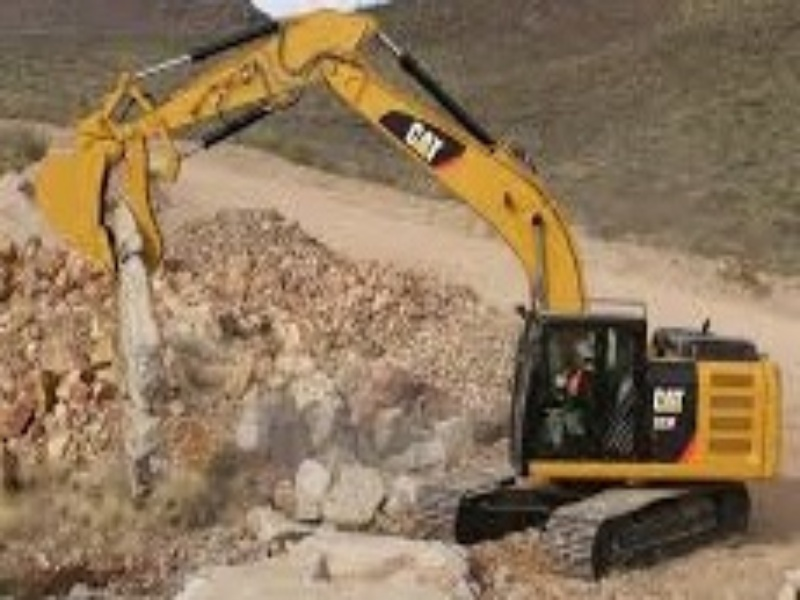wajueji: (451, 245, 791, 581)
